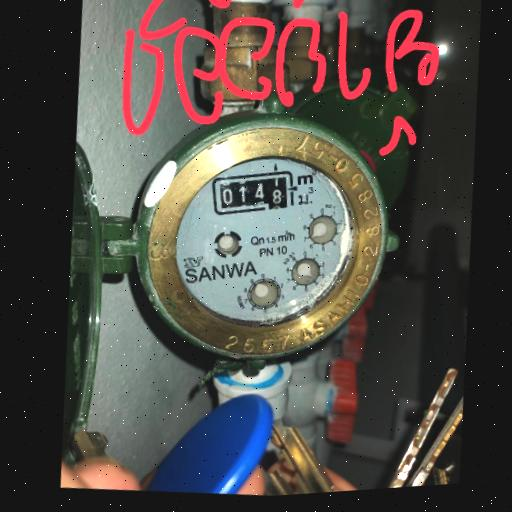0: (217, 180, 239, 210)
1: (232, 178, 255, 209)
4: (247, 177, 272, 208)
8: (264, 175, 291, 211)
border_water_meter_number: (207, 161, 300, 223)
